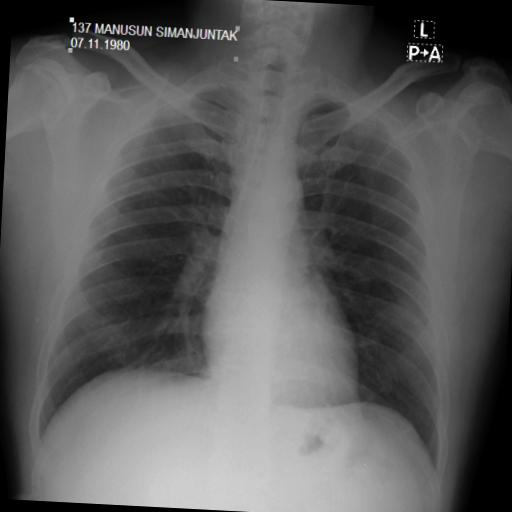normal: (24, 42, 474, 489)
